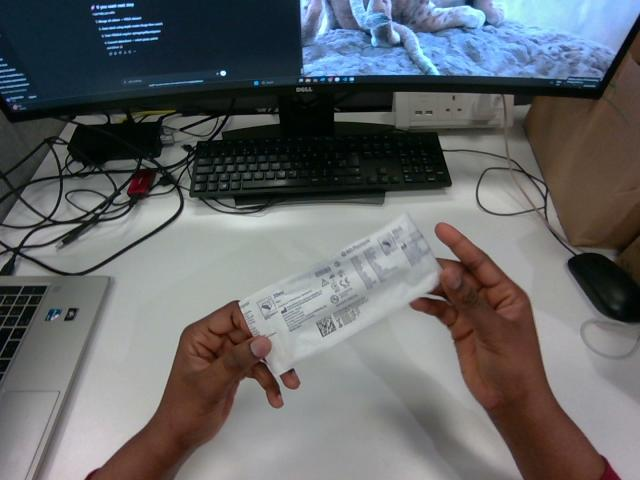syringe: (240, 214, 441, 375)
